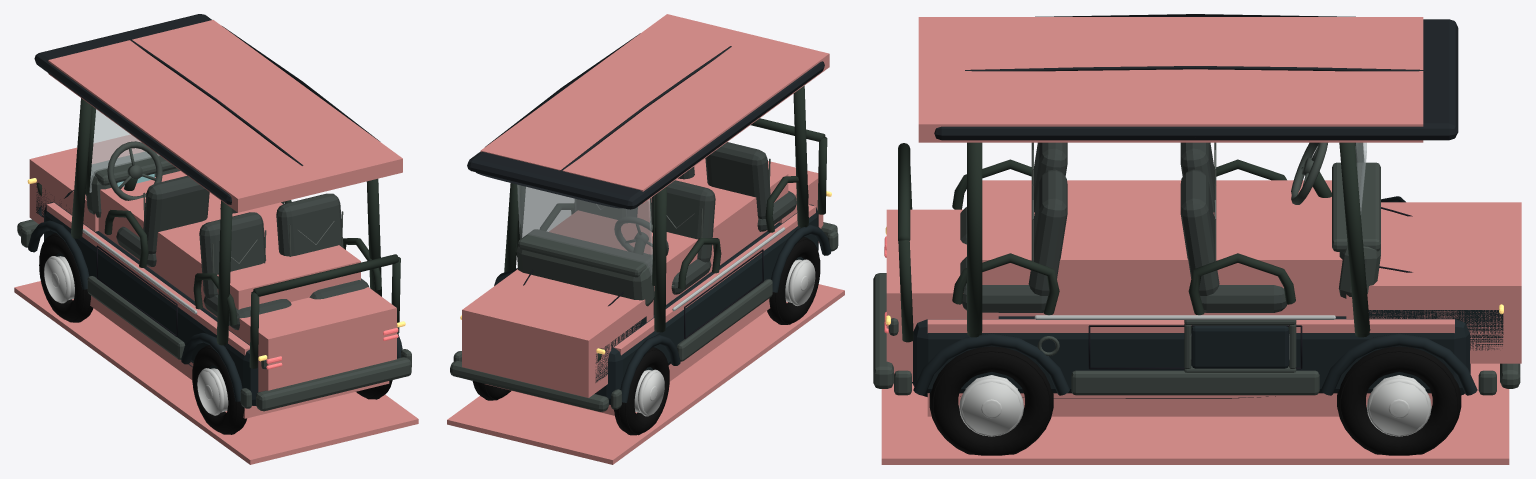
The model's file is golf_cart_premium.glb.
3 views of the same model, side by side, from view 1: azimuth 30°, elevation 25°; view 2: azimuth 150°, elevation 25°; view 3: azimuth 270°, elevation 25° (orthographic). The views are drawn at different scales.
Visible parts, largest first — view 1: COL_Roof, COL_VEHICLE_FOOTPRINT, COL_RearBody, COL_SeatArea, LOD2_BodySilhouette, LOD1_Roof, COL_Chassis, COL_FrontBody, Seat_Passenger_Rear_Right_Back, Seat_Driver_Back, RearBumper, Seat_Passenger_Rear_Left_Back (+30 smaller); view 2: COL_Roof, COL_FrontBody, COL_VEHICLE_FOOTPRINT, COL_SeatArea, LOD1_Windshield, Windshield, LOD1_Roof, LOD2_BodySilhouette, COL_Chassis, Dashboard, Seat_Passenger_Rear_Left_Back, DashboardTop (+28 smaller); view 3: COL_Roof, COL_SeatArea, COL_VEHICLE_FOOTPRINT, COL_FrontBody, LOD2_BodySilhouette, COL_Chassis, LOD1_Roof, COL_RearBody, LOD0_Wheel_FR_TireAssembly, LOD0_Wheel_RR_TireAssembly, SideSkirt_Center_R, BatteryCompartment_Lid_Panel (+29 smaller).
Part boxes in pixels (box(x1,y1,x2,y2)): COL_Roof: box(48, 20, 402, 212); COL_VEHICLE_FOOTPRINT: box(14, 281, 418, 464); COL_RearBody: box(228, 287, 396, 392); COL_SeatArea: box(98, 171, 360, 317); LOD2_BodySilhouette: box(44, 202, 258, 405); LOD1_Roof: box(34, 14, 231, 204); COL_Chassis: box(46, 202, 389, 418); COL_FrontBody: box(29, 135, 144, 231); Seat_Passenger_Rear_Right_Back: box(276, 193, 343, 256); Seat_Driver_Back: box(143, 176, 209, 254); RearBumper: box(256, 357, 411, 411); Seat_Passenger_Rear_Left_Back: box(199, 212, 265, 298); COL_Roof: box(480, 14, 829, 203); COL_FrontBody: box(462, 269, 653, 397); COL_VEHICLE_FOOTPRINT: box(447, 284, 844, 464); COL_SeatArea: box(549, 158, 788, 304); LOD1_Windshield: box(517, 185, 652, 280); Windshield: box(518, 185, 652, 274); LOD1_Roof: box(467, 61, 824, 209); LOD2_BodySilhouette: box(595, 204, 818, 404); COL_Chassis: box(485, 204, 815, 415); Dashboard: box(516, 247, 654, 306); Seat_Passenger_Rear_Left_Back: box(705, 142, 770, 219); DashboardTop: box(518, 229, 651, 277); COL_Roof: box(918, 17, 1423, 142); COL_SeatArea: box(982, 180, 1346, 316); COL_VEHICLE_FOOTPRINT: box(881, 363, 1509, 464); COL_FrontBody: box(1346, 202, 1521, 363); LOD2_BodySilhouette: box(912, 316, 1470, 396); COL_Chassis: box(927, 319, 1454, 416); LOD1_Roof: box(934, 19, 1458, 140); COL_RearBody: box(886, 209, 998, 381); LOD0_Wheel_FR_TireAssembly: box(1337, 346, 1461, 455); LOD0_Wheel_RR_TireAssembly: box(929, 346, 1053, 455); SideSkirt_Center_R: box(1071, 370, 1319, 395); BatteryCompartment_Lid_Panel: box(1191, 326, 1289, 368).
Size of what is drawn, in the model's own units: 1.31 by 1.87 by 3.18.
